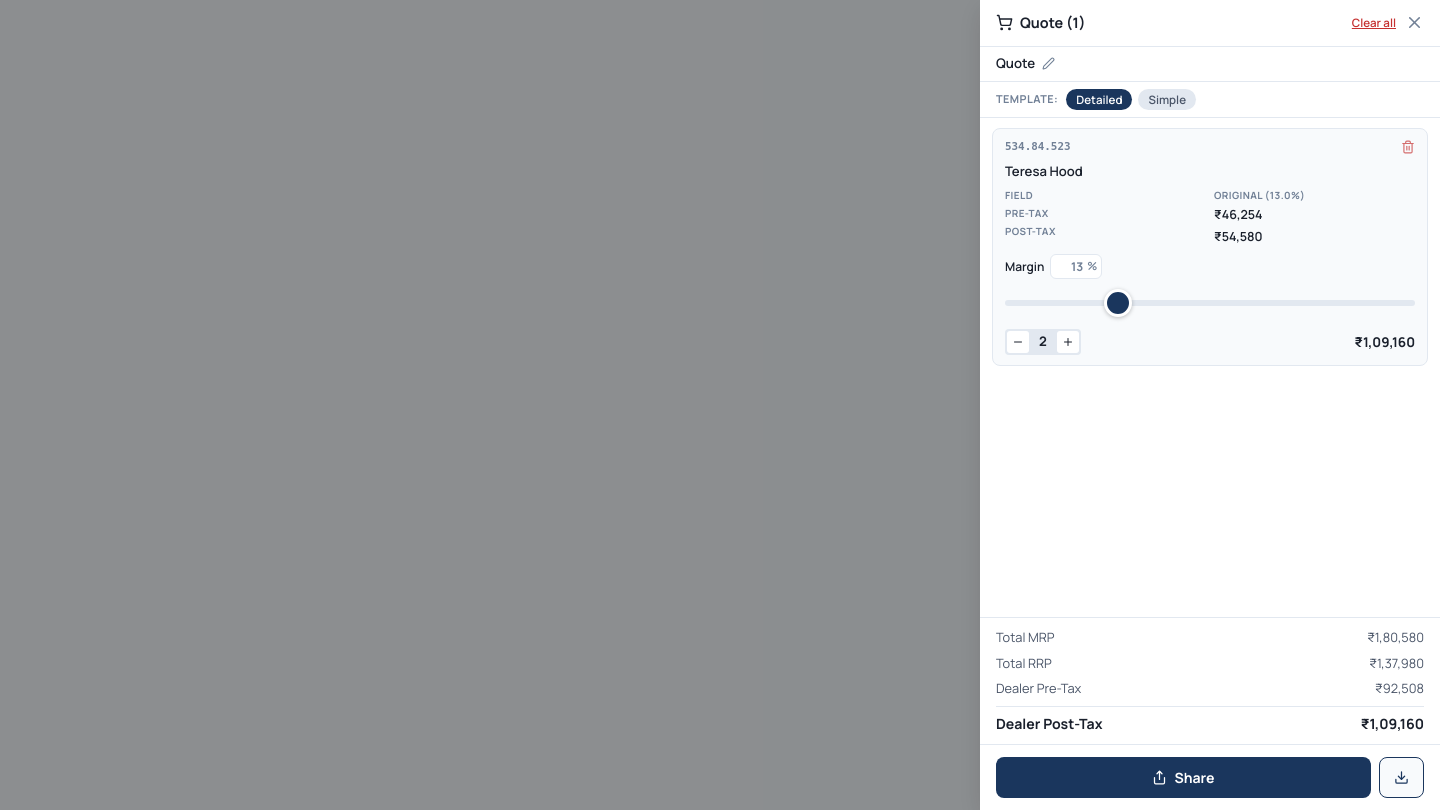
Test case: QuotePanel — title editing › shows title input when edit button clicked
The image size is (1440, 810).
Click the button named "edit title".
click(1049, 64)  # box [1042,57,1055,70]
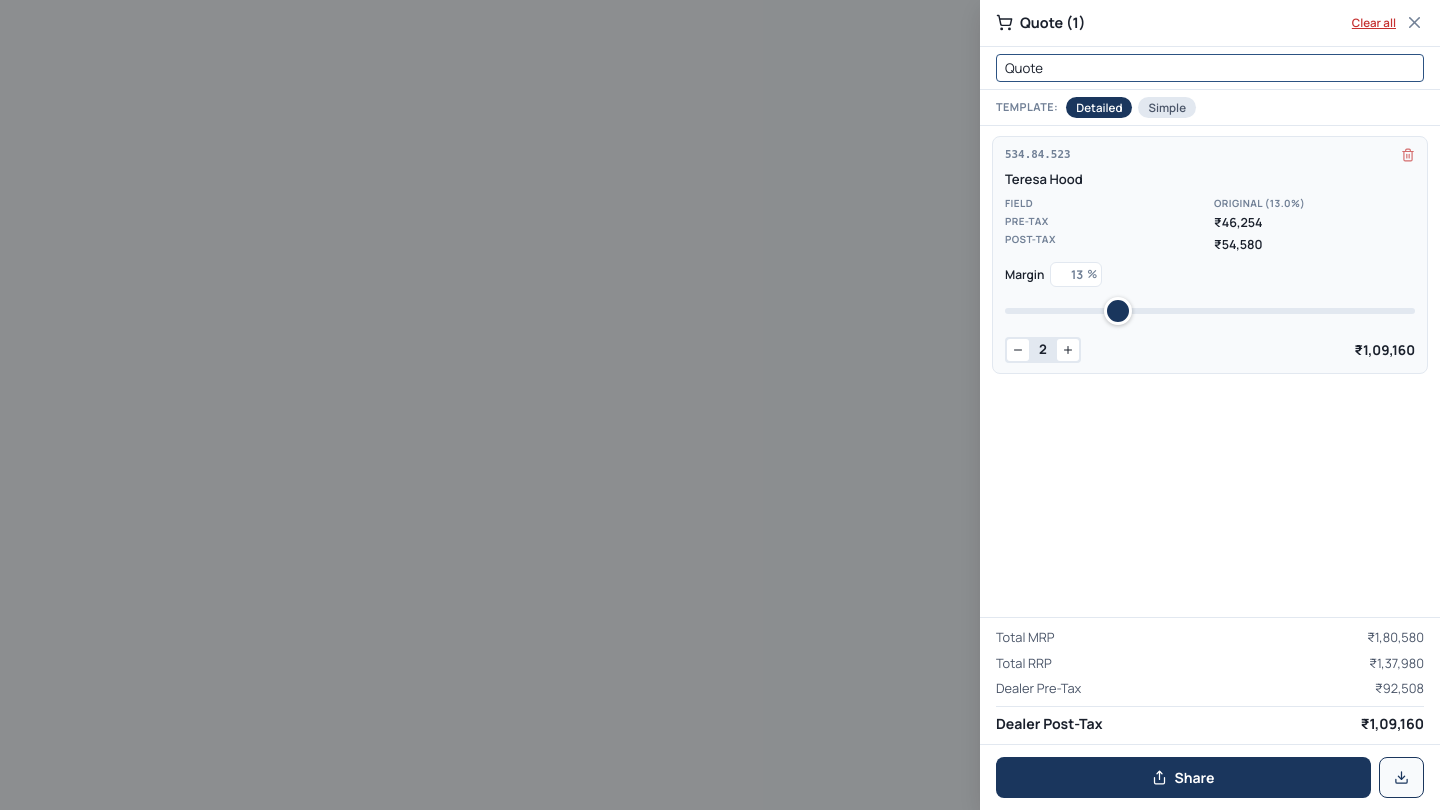
Result: the field named "Quote title" is shown at [996,54,1424,82]
